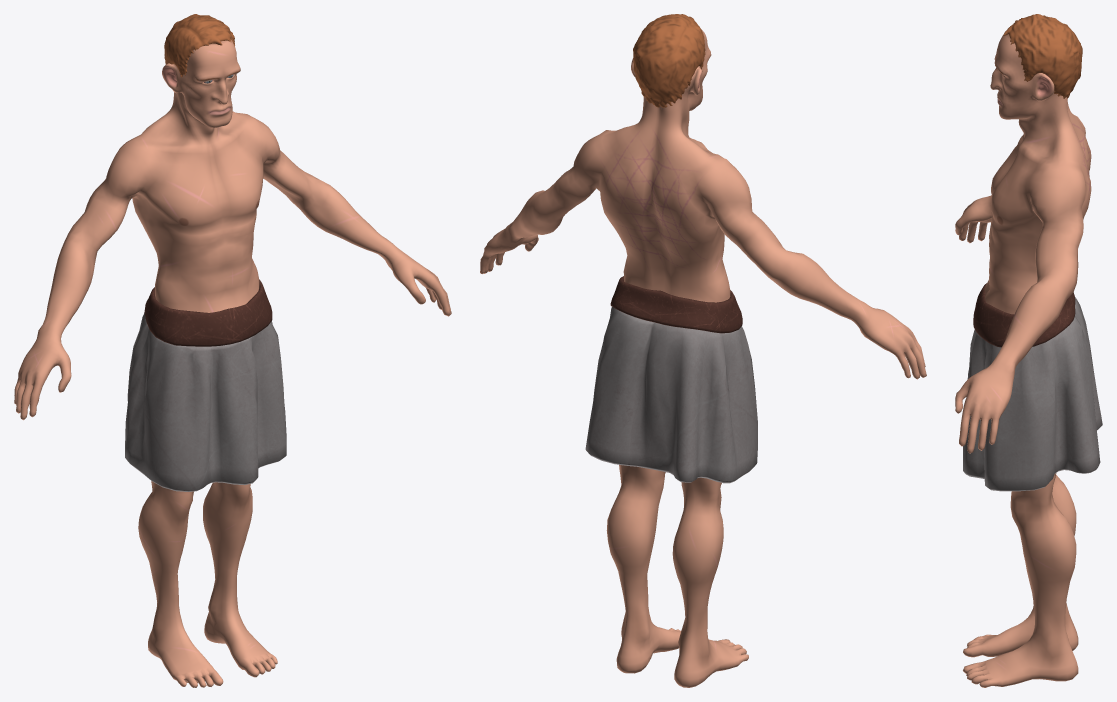
File: vorrak_giant__stylized-gladiator.glb
The picture shows the model from 3 angles, left to right: view 1: azimuth 30°, elevation 25°; view 2: azimuth 150°, elevation 25°; view 3: azimuth 270°, elevation 25°; orthographic projection. The views are drawn at different scales.
Visible parts, largest first — view 1: body_low, skirt_low, belt_low, hair_low; view 2: body_low, skirt_low, hair_low, belt_low; view 3: body_low, skirt_low, hair_low, belt_low.
Boxes of the visible parts, <box> form: body_low: <box>14,40,451,687</box>; skirt_low: <box>125,313,286,491</box>; belt_low: <box>144,279,272,346</box>; hair_low: <box>164,14,234,77</box>; body_low: <box>480,29,926,687</box>; skirt_low: <box>585,307,757,483</box>; hair_low: <box>633,14,705,107</box>; belt_low: <box>610,276,742,333</box>; body_low: <box>955,34,1091,687</box>; skirt_low: <box>963,297,1102,491</box>; hair_low: <box>1003,14,1082,98</box>; belt_low: <box>973,283,1075,347</box>.
Size of the model in its own units: 124 by 177 by 36.32.
Materials: 1 (1 with a texture image).
